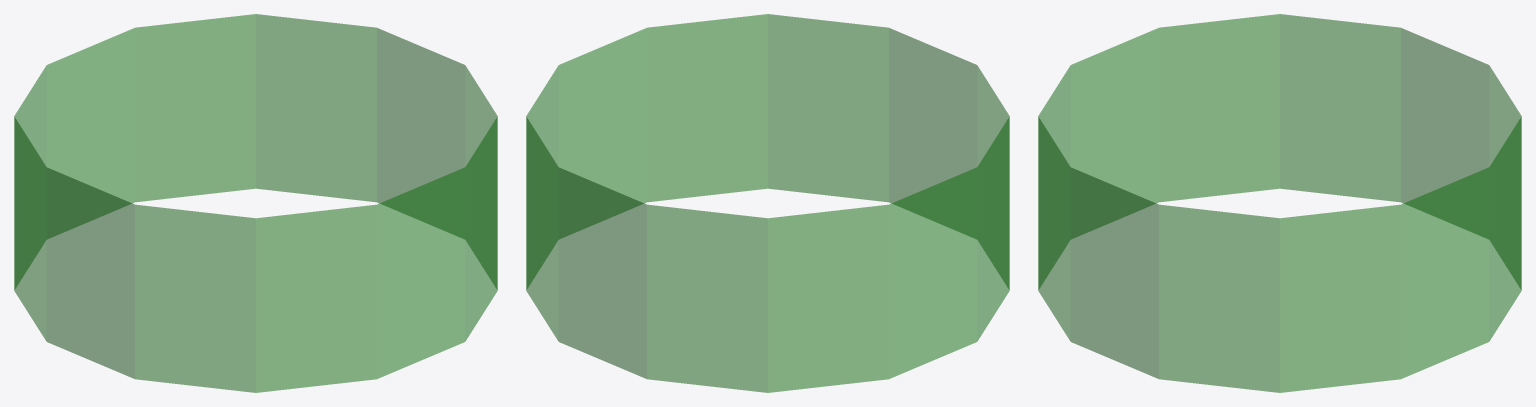
Rendered from B_Wall.obj.
3 views of the same model, side by side, from view 1: azimuth 30°, elevation 25°; view 2: azimuth 150°, elevation 25°; view 3: azimuth 270°, elevation 25° (orthographic).
Bounding box in the file's own units: 25 × 9.97 × 25.
